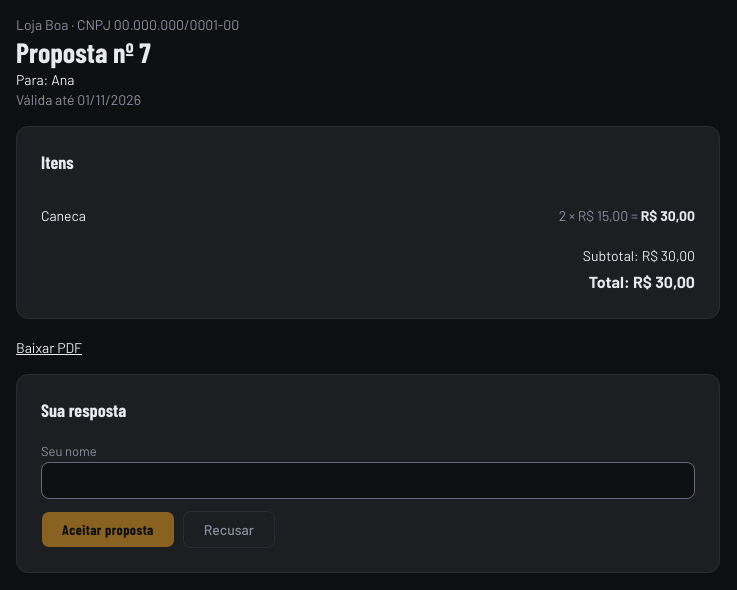
PaginaPublicaDaProposta › enviada: mostra itens e total; aceitar exige o nome e passa a mostrar aceita
Expected: the text "Caneca" is shown, x1=41 y1=206 x2=86 y2=226
Expected: the text "Loja Boa · CNPJ 00.000.000/0001-00" is shown, x1=16 y1=16 x2=239 y2=33
Type "Maria" into the field labelled "Seu nome" at point(368, 480), box x1=41 y1=462 x2=695 y2=499
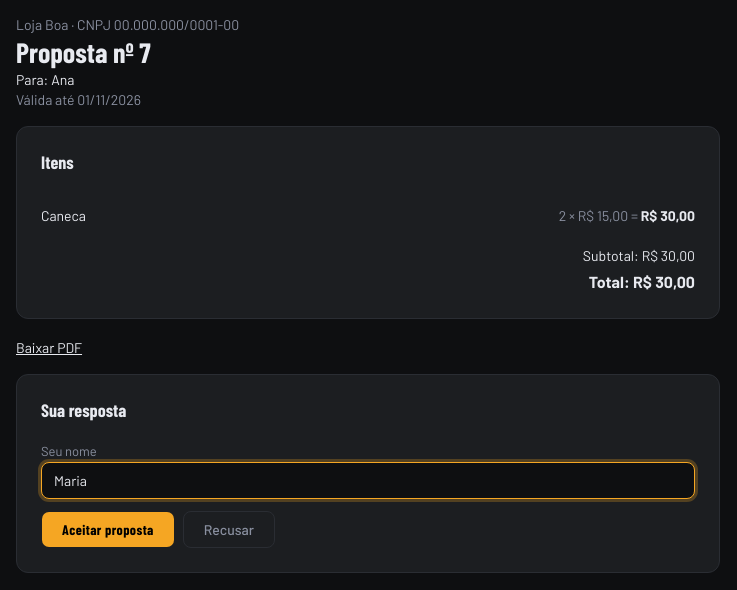
Click the button "Aceitar proposta" at point(108, 530), box x1=41 y1=511 x2=175 y2=548
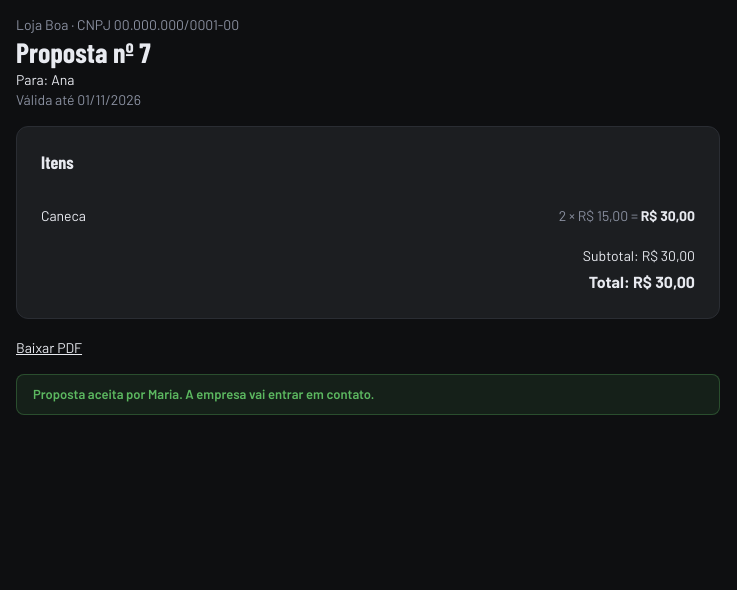
Now the text "Proposta aceita por Maria. A empresa vai entrar em contato." is shown, box x1=33 y1=386 x2=374 y2=402
Now the button "Aceitar proposta" is gone
